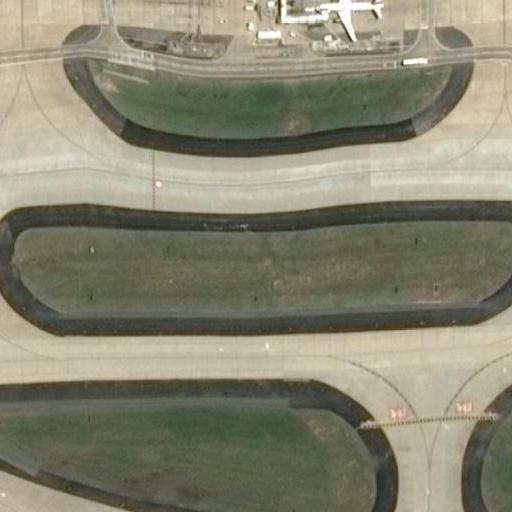Aircraft: (306, 0, 390, 41)
